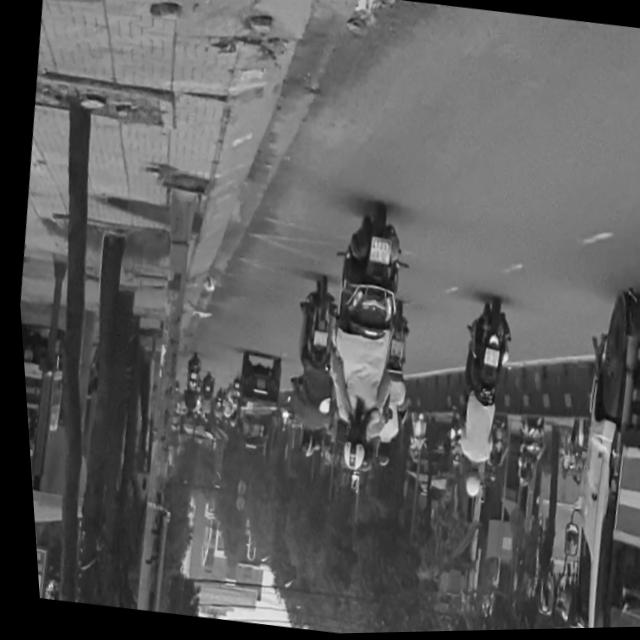helmet: (333, 432, 363, 475), (454, 464, 478, 501)
licenseplate: (301, 200, 422, 484), (434, 297, 521, 505)
nohelmet: (364, 239, 389, 267), (477, 350, 495, 370)
